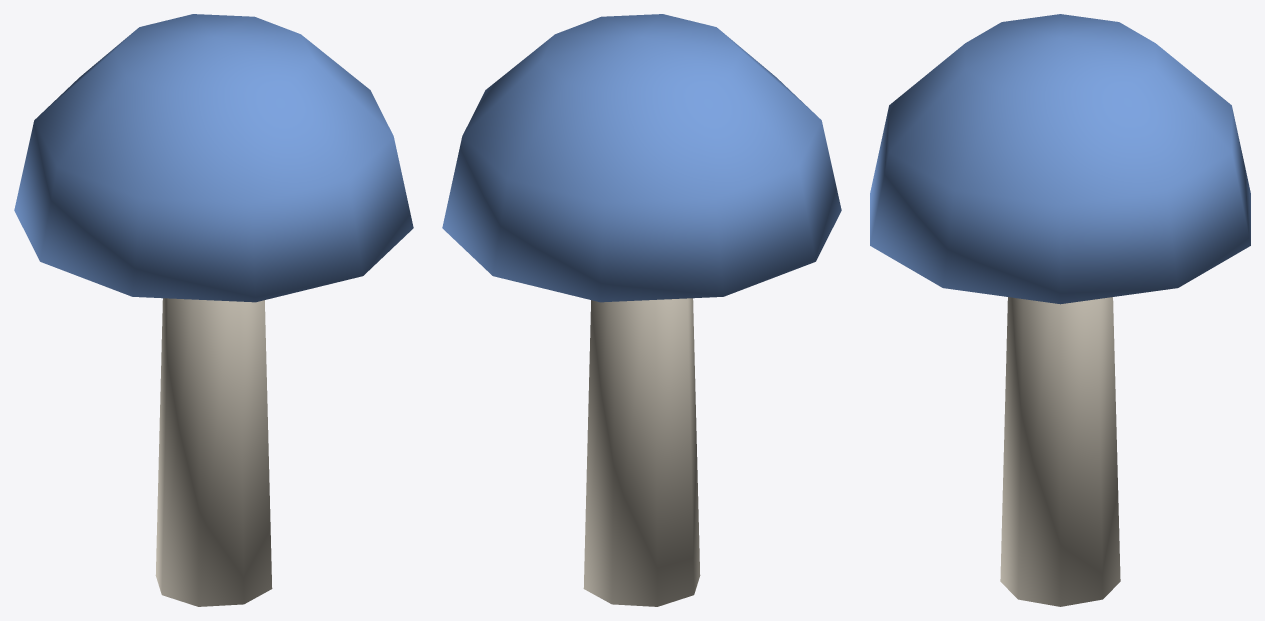
The model's file is glowing_mushroom_plant_v0.glb.
3 renders of one model, left to right at view 1: azimuth 30°, elevation 25°; view 2: azimuth 150°, elevation 25°; view 3: azimuth 270°, elevation 25°, orthographic.
Parts seen in each view (by area): view 1: glowcap_plant_v0; view 2: glowcap_plant_v0; view 3: glowcap_plant_v0.
Part boxes in pixels (bbox=[...]): glowcap_plant_v0: bbox=[14, 14, 413, 606]; glowcap_plant_v0: bbox=[442, 14, 841, 606]; glowcap_plant_v0: bbox=[870, 14, 1250, 606].
Bounding box in the file's own units: 0.2 × 0.2995 × 0.1902.
